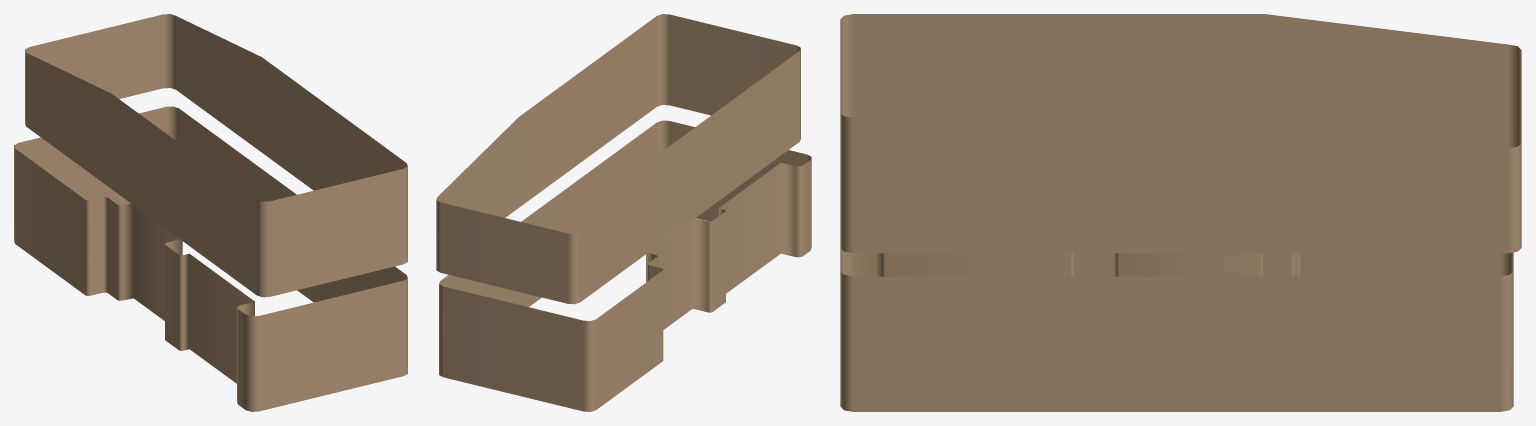
Rendered from cybercity_building_house_04_01.fbx.
3 views of the same model, side by side, from view 1: azimuth 30°, elevation 25°; view 2: azimuth 150°, elevation 25°; view 3: azimuth 270°, elevation 25° (orthographic). The views are drawn at different scales.
Parts seen in each view (by area): view 1: cybercity_building_house_04_01; view 2: cybercity_building_house_04_01; view 3: cybercity_building_house_04_01.
Boxes of the visible parts, x1,y1,x2,y2 form: cybercity_building_house_04_01: (14, 14, 407, 411); cybercity_building_house_04_01: (436, 14, 811, 411); cybercity_building_house_04_01: (840, 14, 1521, 411).
Bounding box in the file's own units: 844 × 1020 × 2142.
